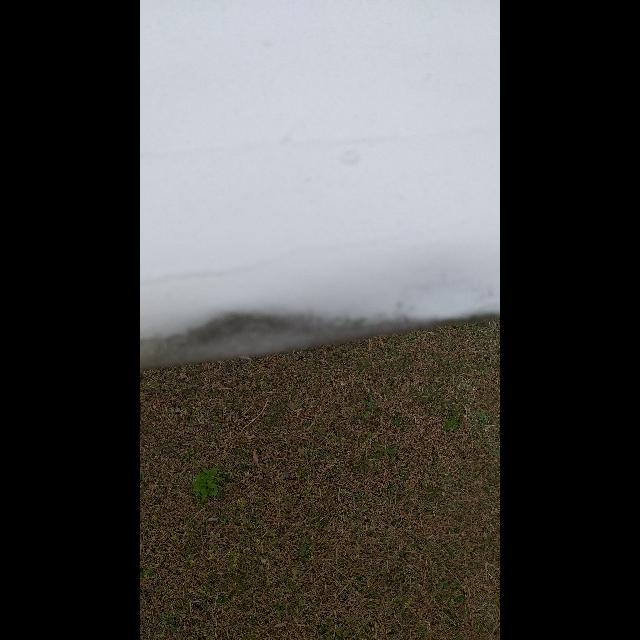dent: (185, 300, 317, 364)
